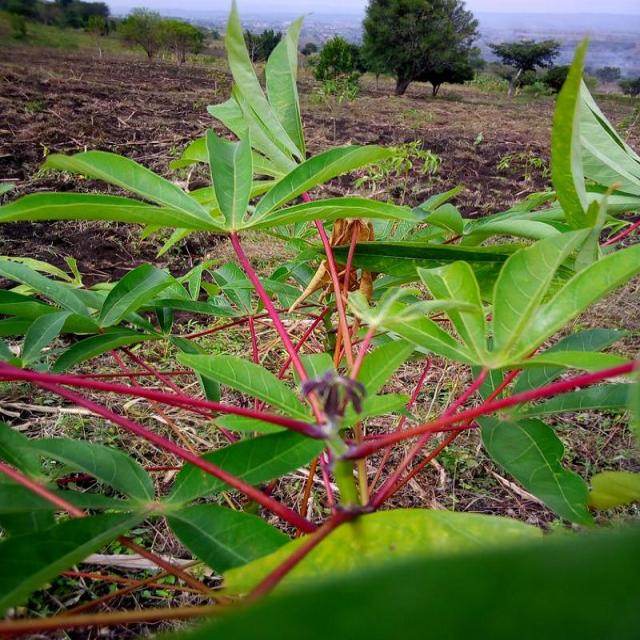cassava leaf: (0, 1, 638, 635), (549, 34, 638, 231)
